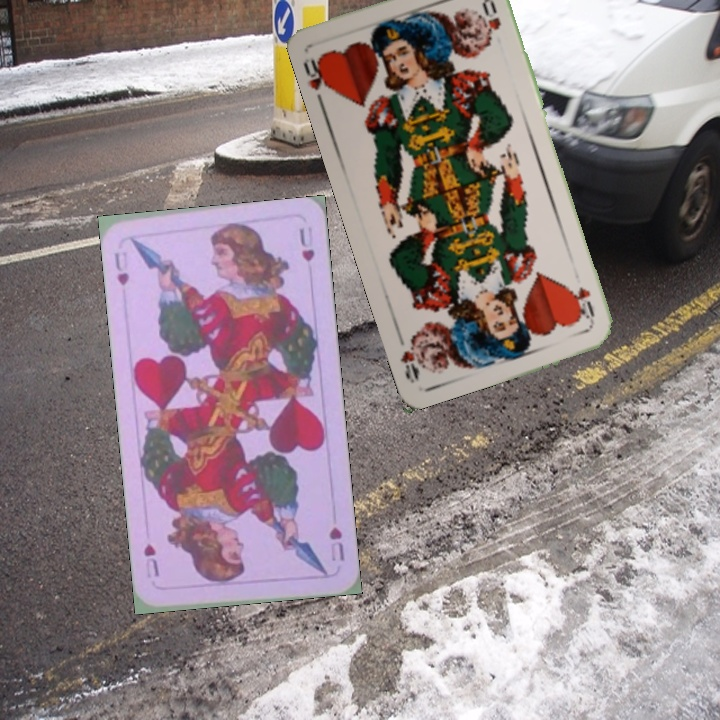HO: (299, 50, 335, 109), (568, 282, 598, 326)
HU: (325, 523, 347, 564), (110, 248, 131, 288)
